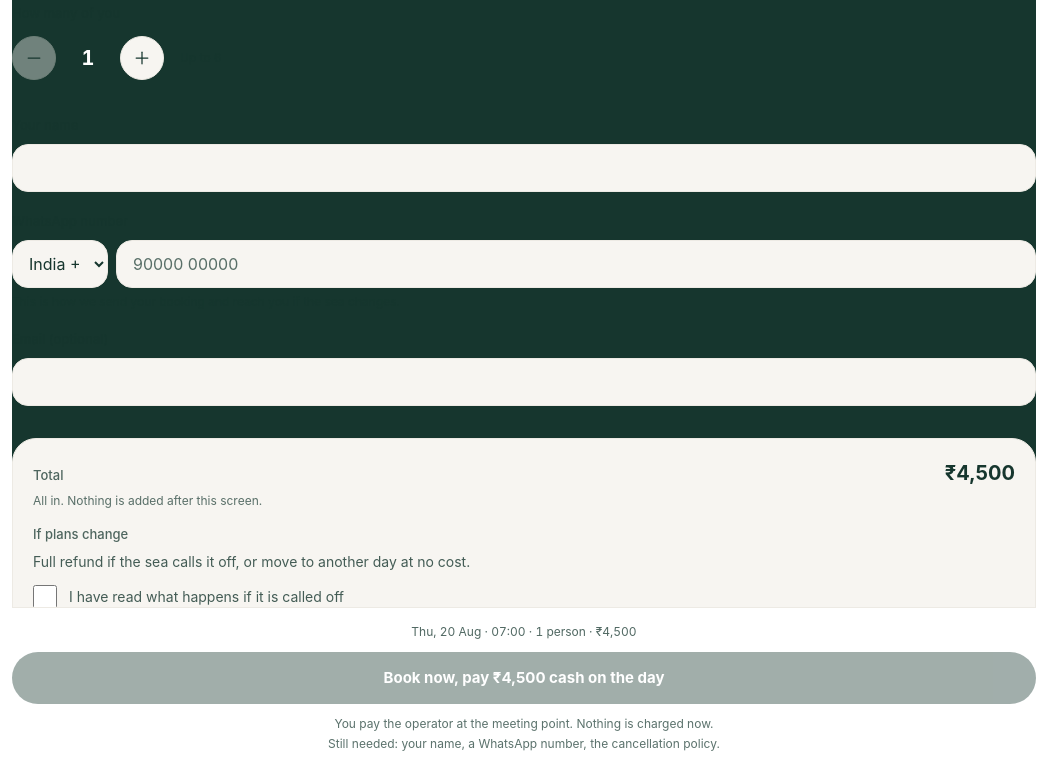
Test case: CheckoutForm — the money rules › offers what is left when the seats went while they were deciding
Step 1. Type "Asha Menon" into the field labelled "Your name" → (524, 168), box [12, 144, 1036, 192]
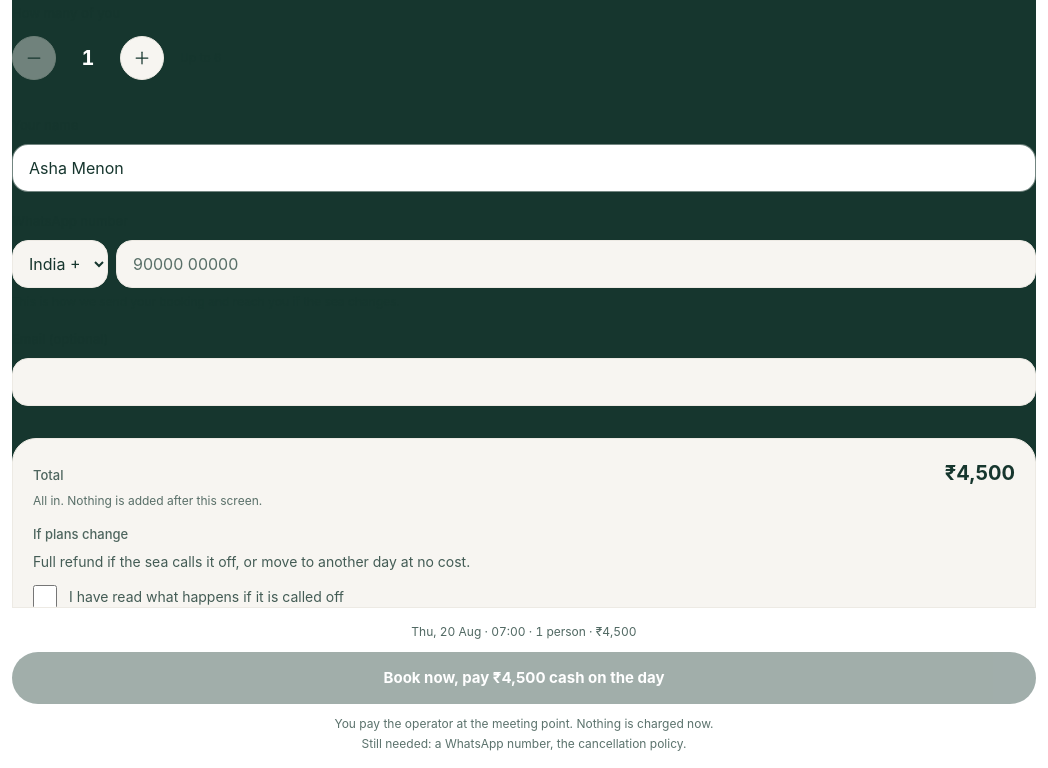
Step 2. Type "+919000000000" into the field labelled "WhatsApp number" → (576, 264), box [116, 240, 1036, 288]
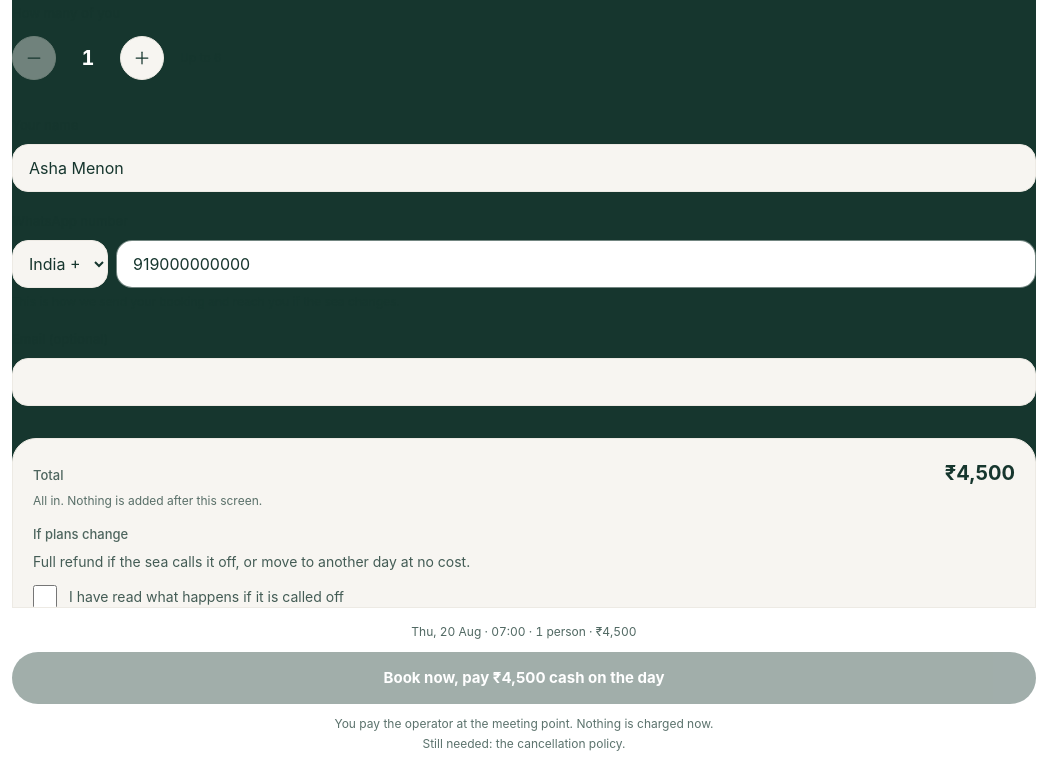
Step 3. Click the checkbox labelled "I have read what happens if it is called off" → click(45, 597), box [33, 585, 57, 609]
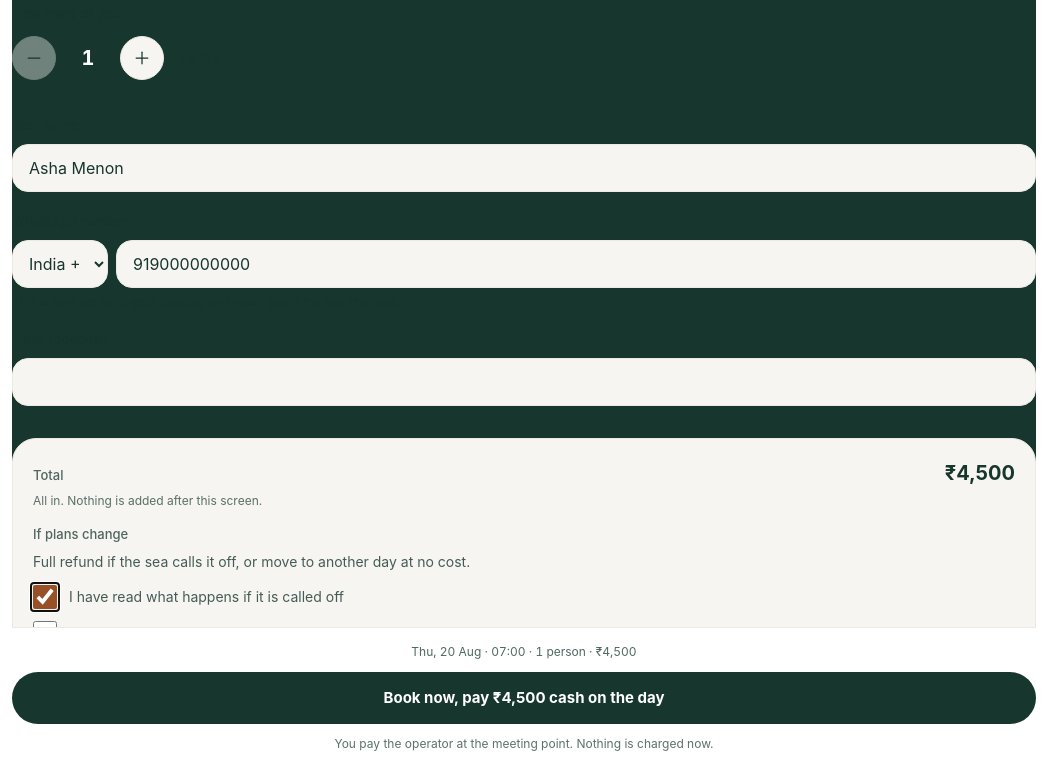
Step 4. Click the button "Book now, pay ₹4,500 cash on the day" → click(524, 698), box [12, 672, 1036, 724]
(page scrolled)
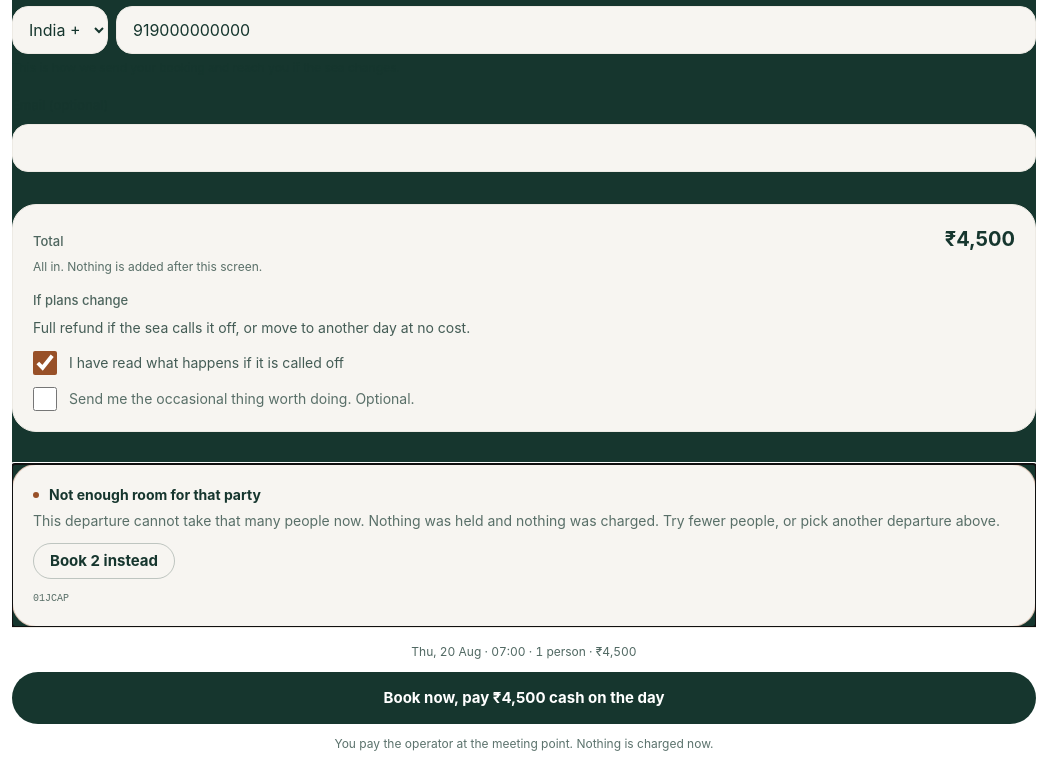
Result: the button "Book 2 instead" is shown at [33, 543, 175, 579]
Result: the text "01JCAP" is shown at [33, 593, 69, 604]
